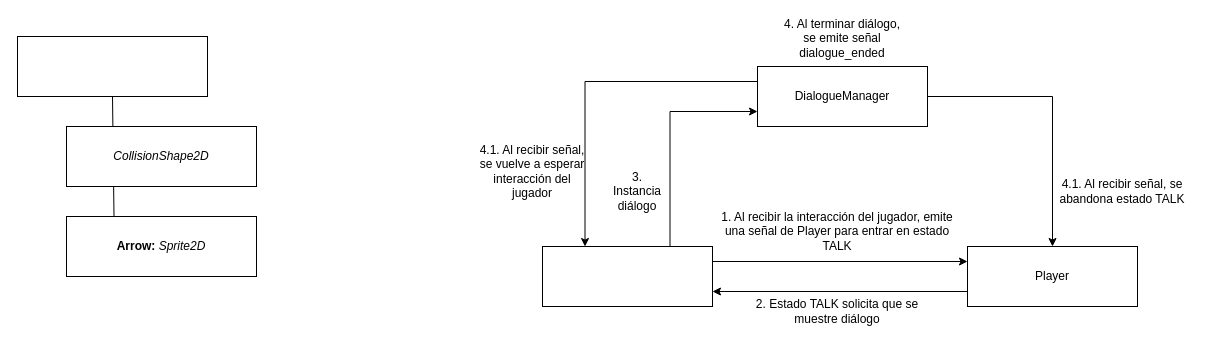
Image size: 1205x344. Some labels were removed from this diagram. The shapes that lost their labels are listed below. From the top down, each one's centre as x and y in pixels, then its label:
point 112,66: DialogueComponent : Area2D
point 627,276: DialogueComponent
